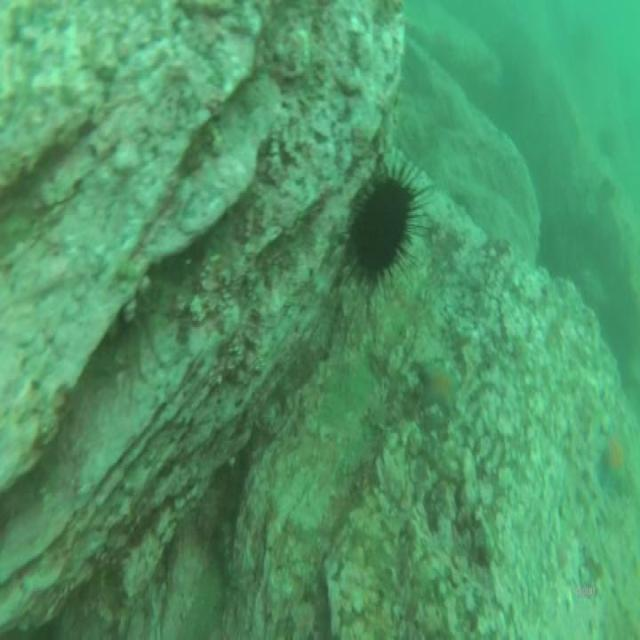echinus: (332, 144, 432, 300), (596, 119, 618, 158), (595, 172, 617, 210)
starfish: (415, 354, 464, 425), (597, 416, 634, 507)
